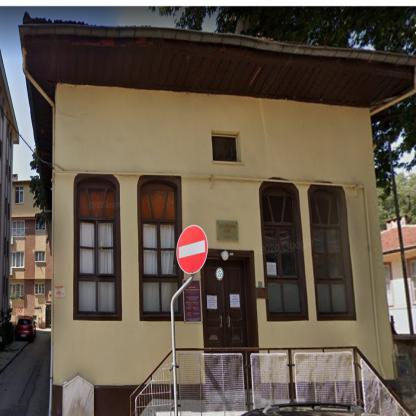door: (201, 250, 258, 346), (46, 304, 51, 328)
window: (73, 174, 121, 320), (138, 176, 183, 321), (308, 187, 356, 320), (262, 182, 308, 320), (212, 136, 237, 160), (384, 263, 392, 306), (410, 259, 416, 305), (10, 283, 24, 300), (175, 292, 184, 318), (11, 251, 24, 267), (12, 220, 24, 236), (16, 187, 24, 203), (35, 251, 45, 263), (35, 221, 45, 230), (35, 284, 44, 294)
